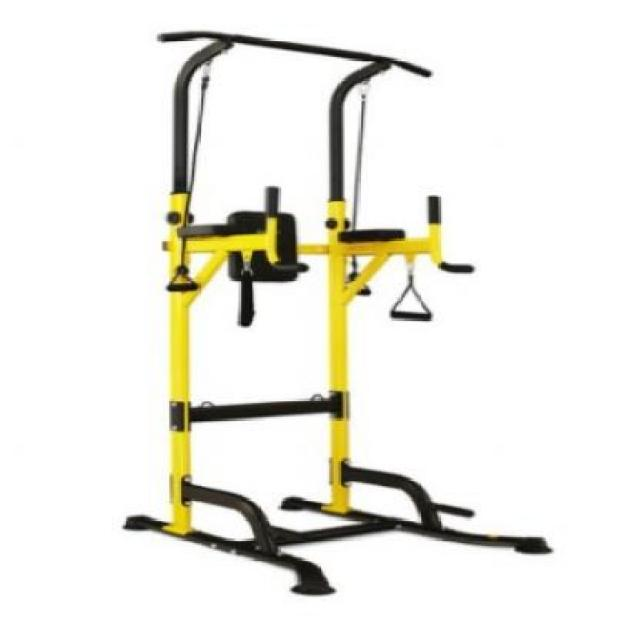chinning dipping: (130, 29, 556, 596)
